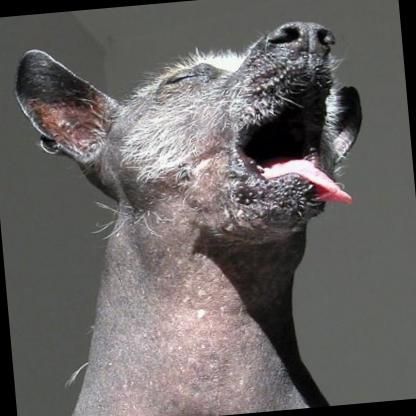Mexican_hairless: (1, 15, 388, 416)
